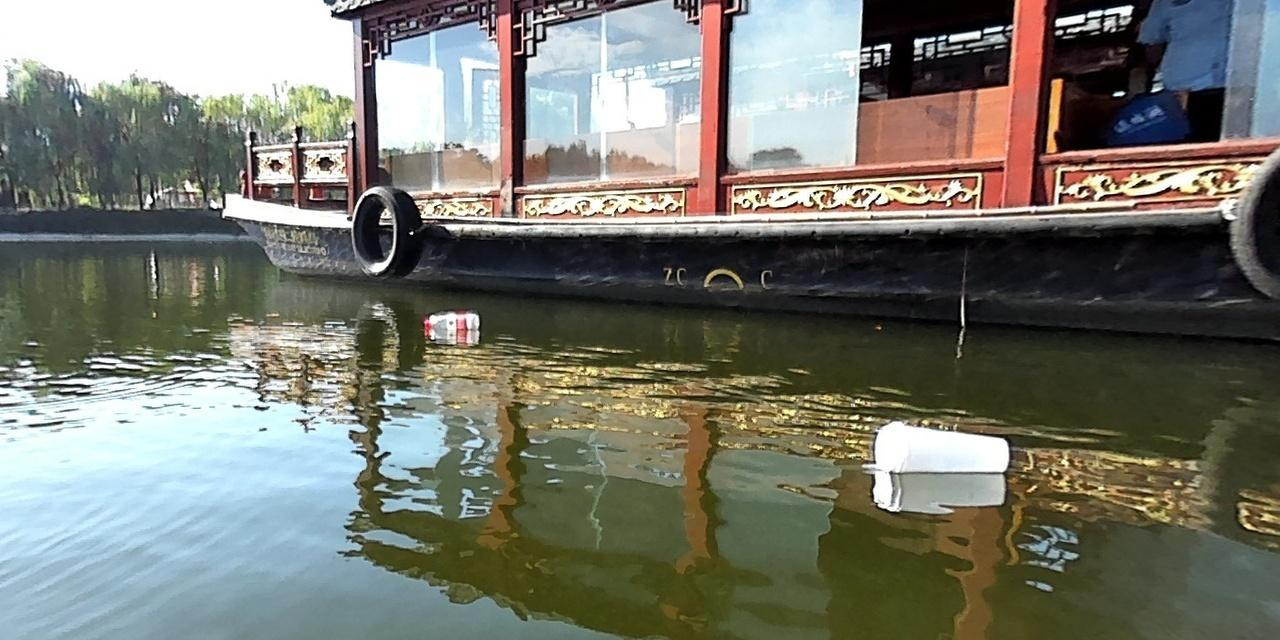bottle: (871, 420, 1006, 472), (420, 311, 478, 330)
